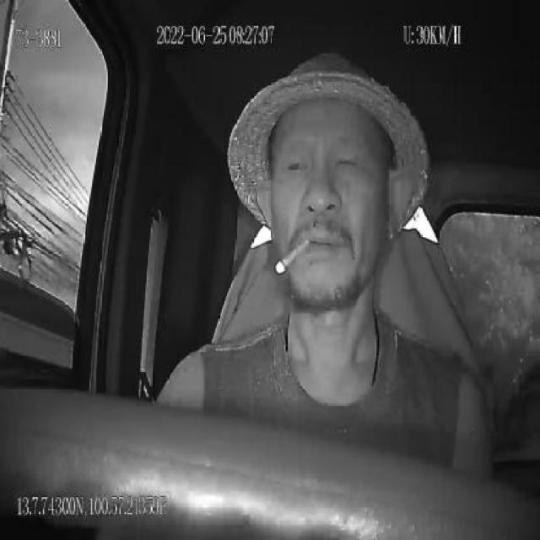smoking: (276, 239, 312, 275)
